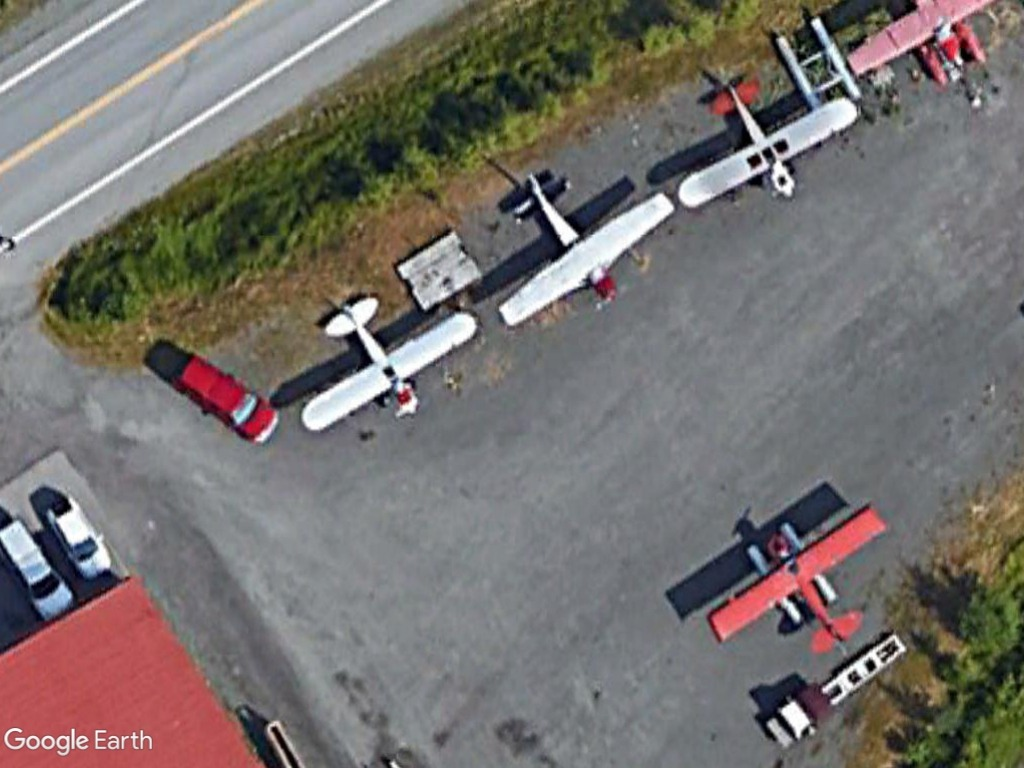car: (0, 515, 81, 619), (42, 489, 115, 584)
trainer: (488, 168, 674, 330), (702, 498, 888, 655), (669, 74, 863, 219), (295, 294, 486, 439)
van: (169, 351, 283, 446)
